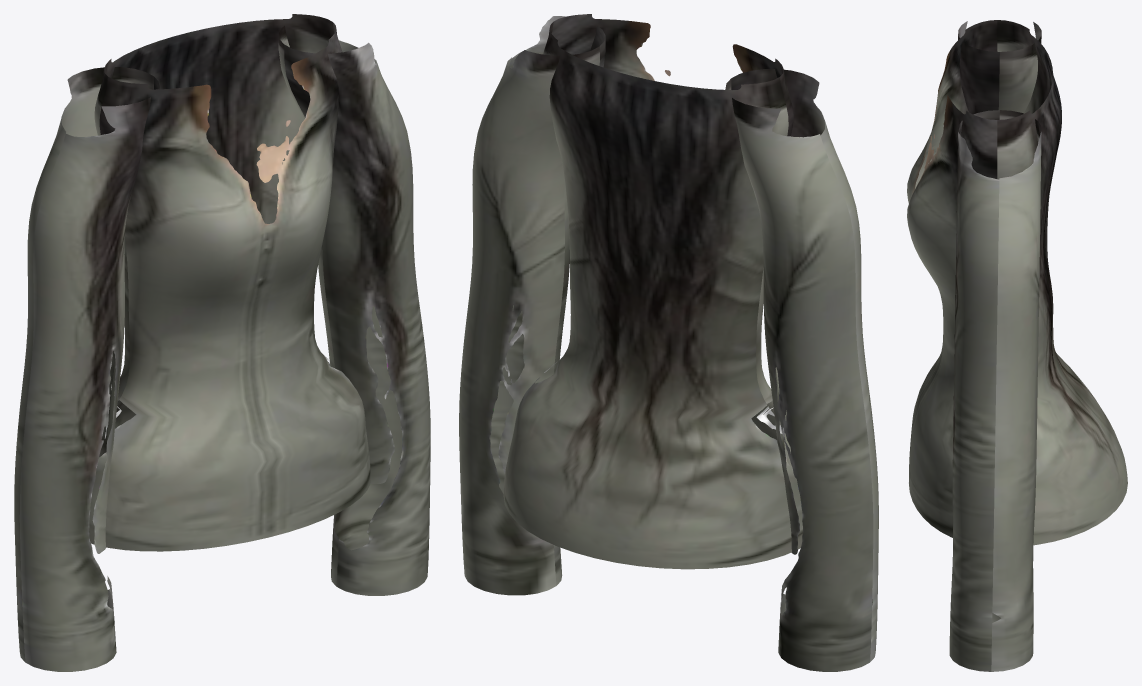
Rendered from prod-ae-sage-zip-jacket.glb.
The picture shows the model from 3 angles, left to right: view 1: azimuth 30°, elevation 25°; view 2: azimuth 150°, elevation 25°; view 3: azimuth 270°, elevation 25°; orthographic projection. The views are drawn at different scales.
Parts seen in each view (by area): view 1: prod-ae-sage-zip-jacket; view 2: prod-ae-sage-zip-jacket; view 3: prod-ae-sage-zip-jacket.
Boxes of the visible parts, box(x1,y1,x2,y2) form: prod-ae-sage-zip-jacket: box(14, 14, 430, 671); prod-ae-sage-zip-jacket: box(459, 14, 878, 671); prod-ae-sage-zip-jacket: box(907, 20, 1127, 671).
Bounding box in the file's own units: 0.4231 × 0.5612 × 0.2187.
1 material, 1 textured.
